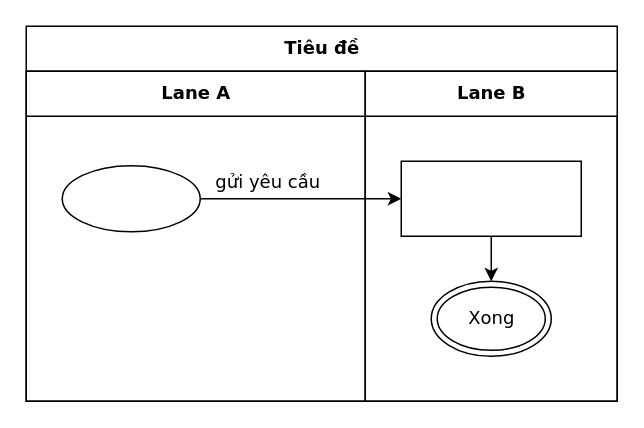
The diagram is 644 pixels wide and 428 high, and some of its shapes have lost their labels. Here are the shapes that lost their labels. From the top down, the centre of each, then its label:
At point (130, 198): "Bắt đầu".
At point (490, 198): "Xử lý".
